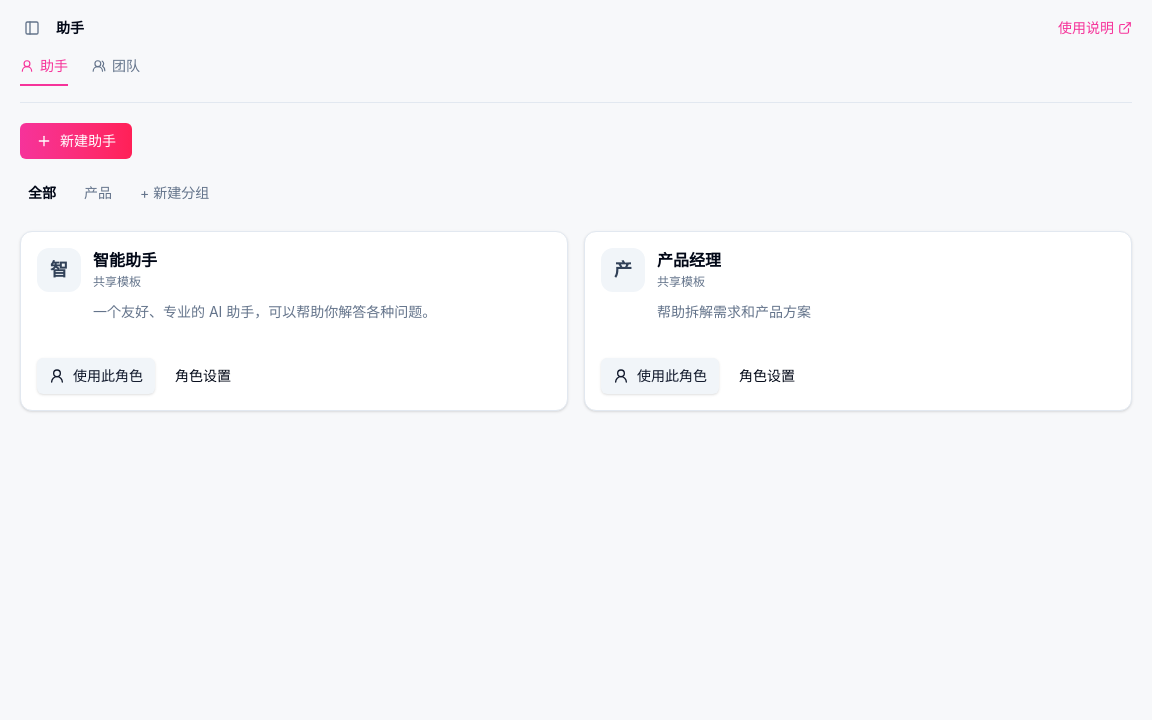
Test: CharactersPage › creates a new assistant group and selects it
This screenshot has width=1152, height=720.
Click the button "+ 新建分组" at (175, 193), box [132,179,217,207]
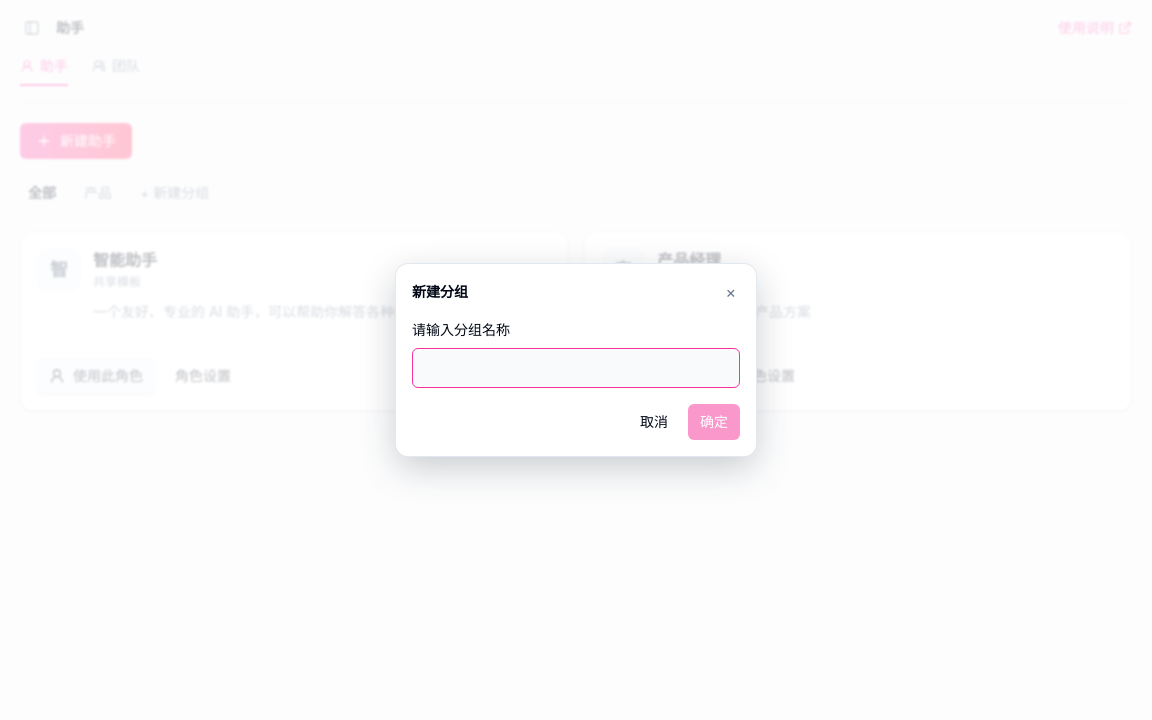
Type "运营" into the field labelled "分组名称" at (576, 368), box [412,348,740,388]
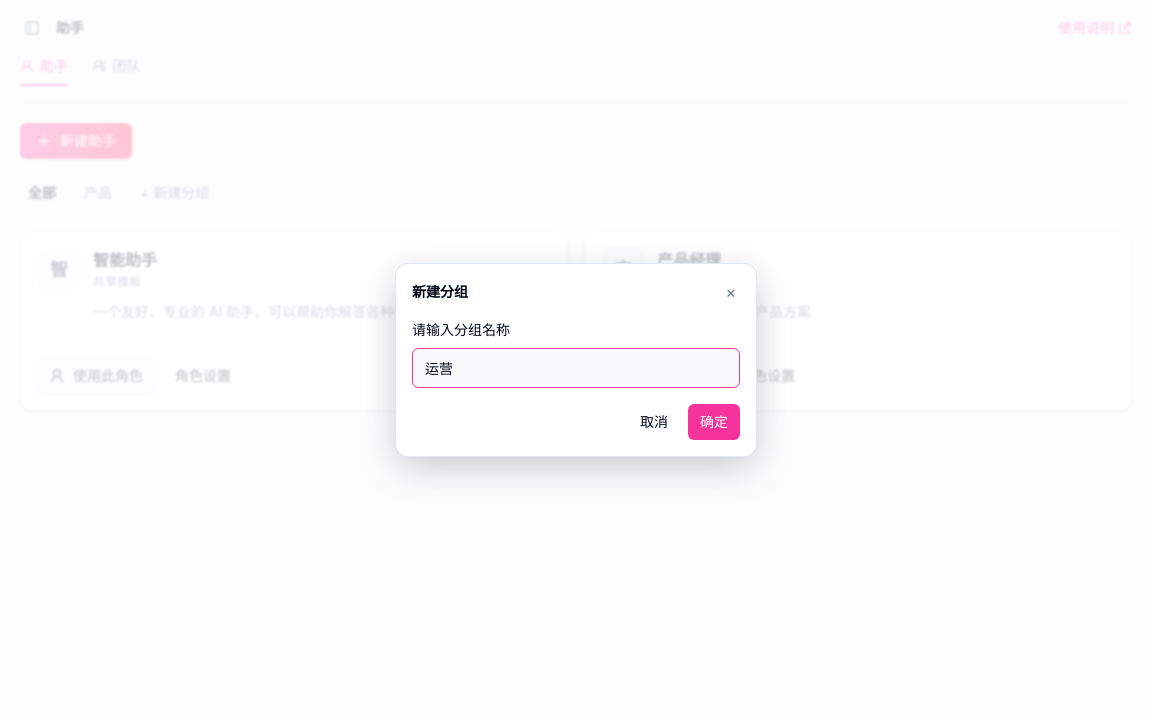
Click the button "确定" at (714, 422), box [688,404,740,440]
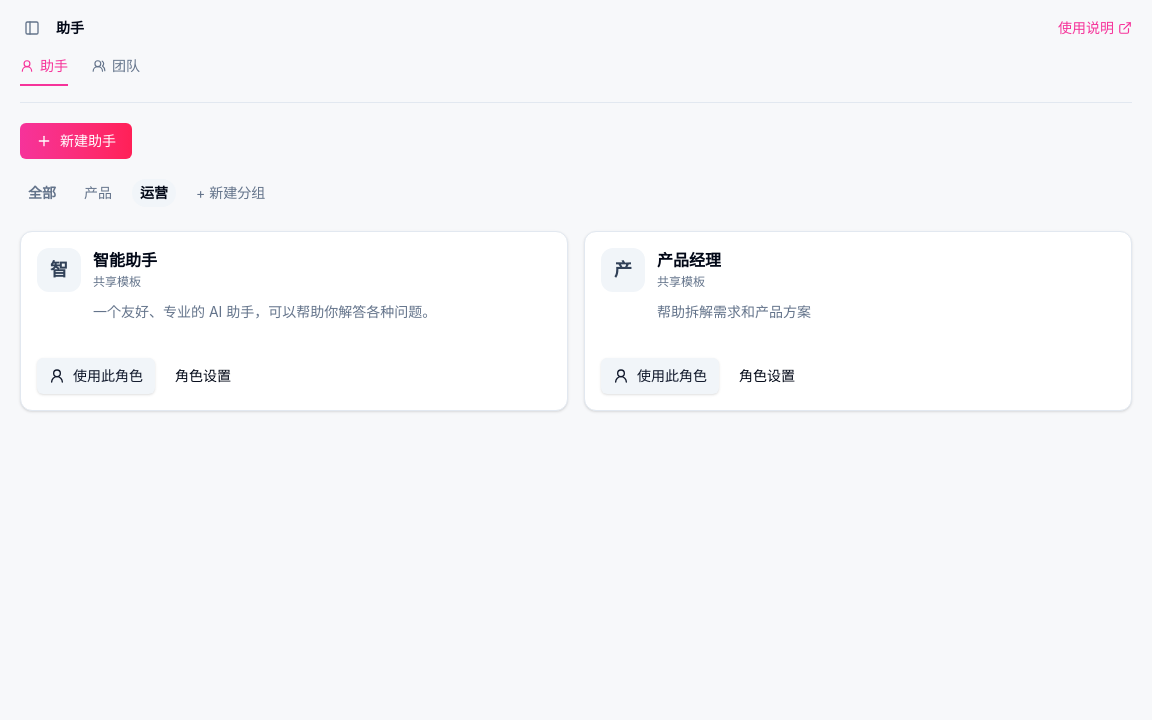
Result: the button "运营" is shown at [132,179,176,207]
